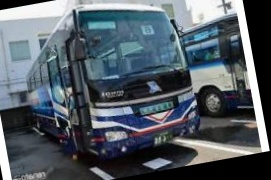bus: (13, 0, 204, 171)
